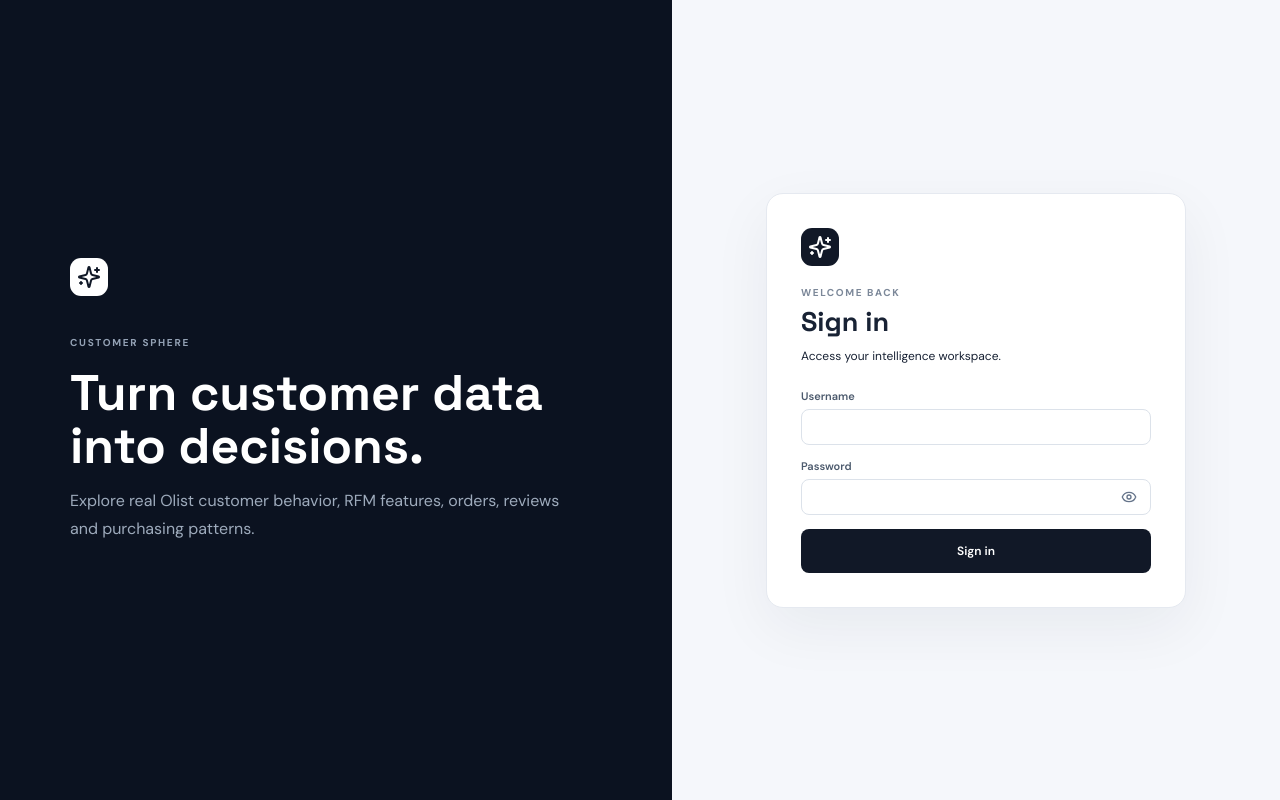
Login Page Component › displays server error message on login failure
In the field labelled "Username": (976, 426) 801,408 -> 1151,444, type "admin"
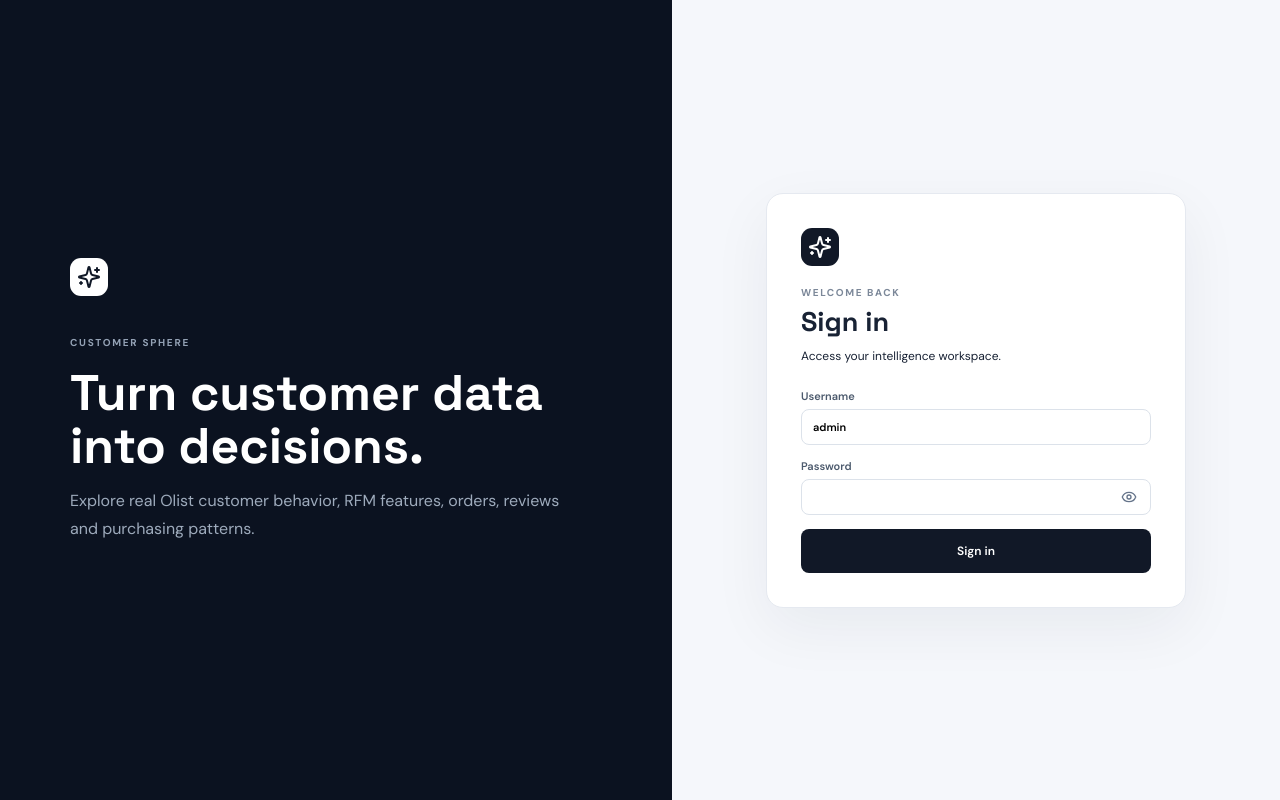
In the password field labelled "Password": (976, 496) 801,478 -> 1151,514, type "secure-password"
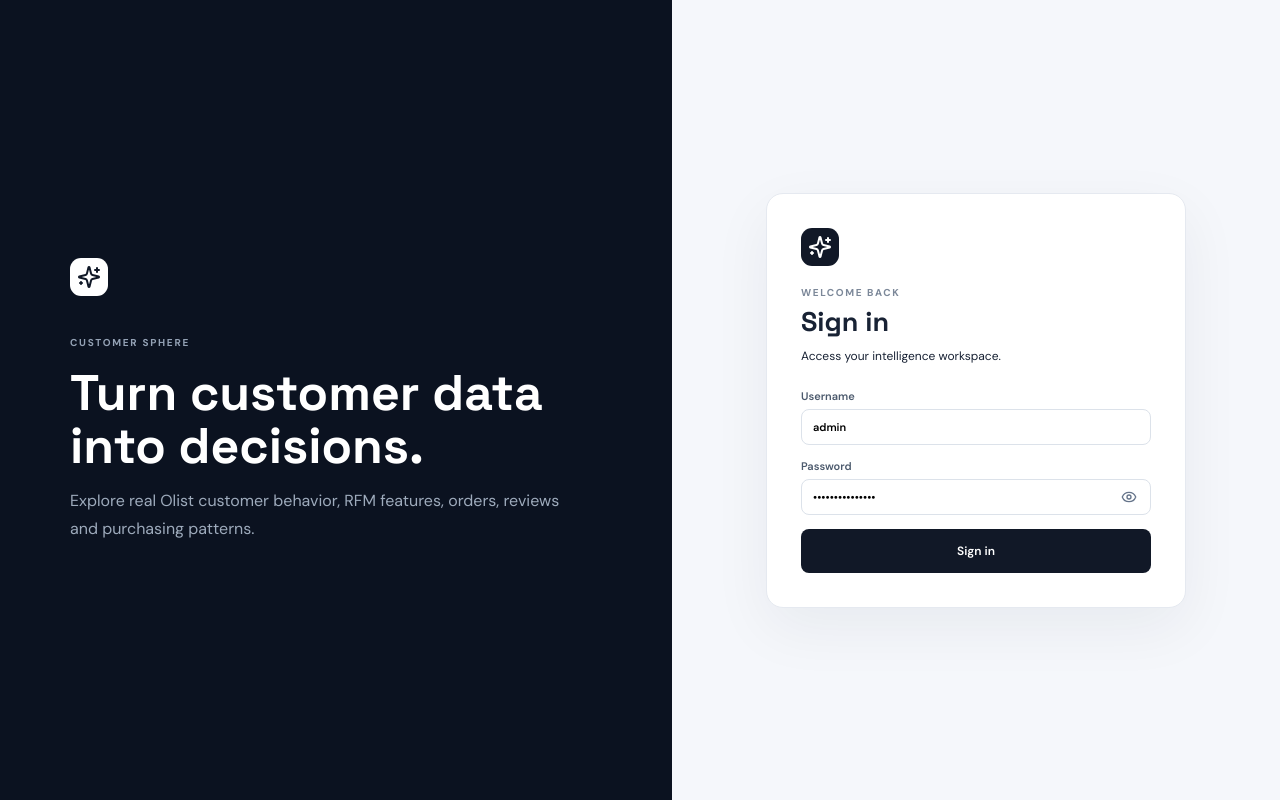
Click the button "Sign in": (976, 550) 801,528 -> 1151,572
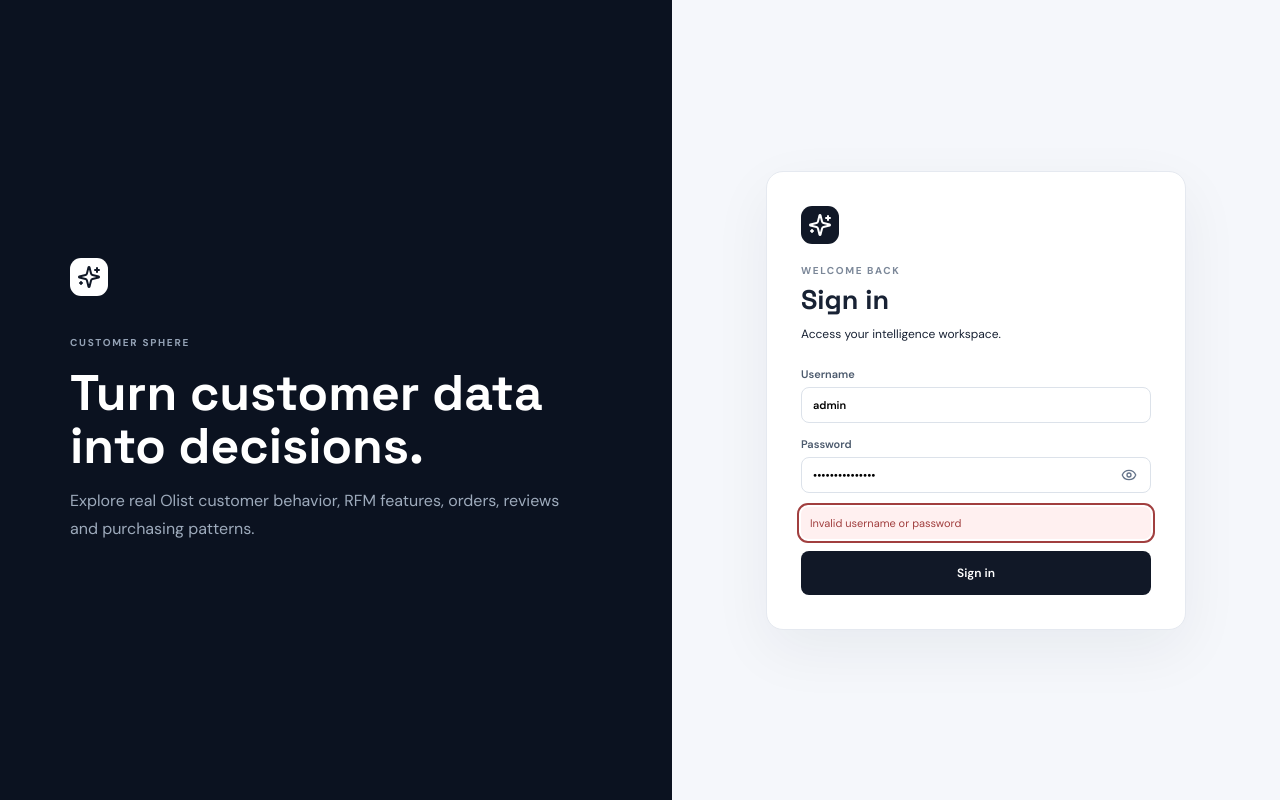
expect the text "Invalid username or password" is shown: met, box 801,506 -> 1151,538
